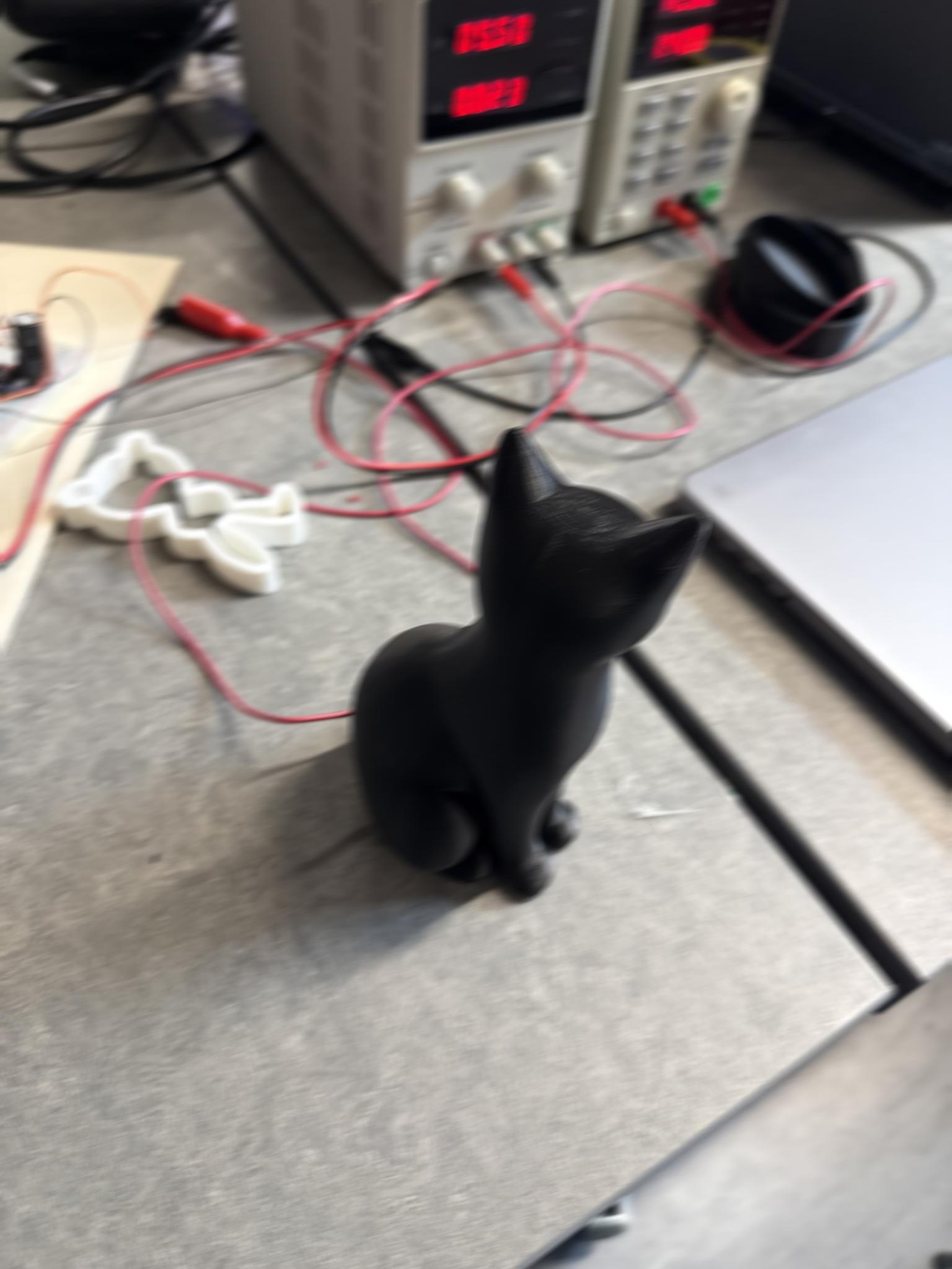cat: (349, 428, 708, 898)
